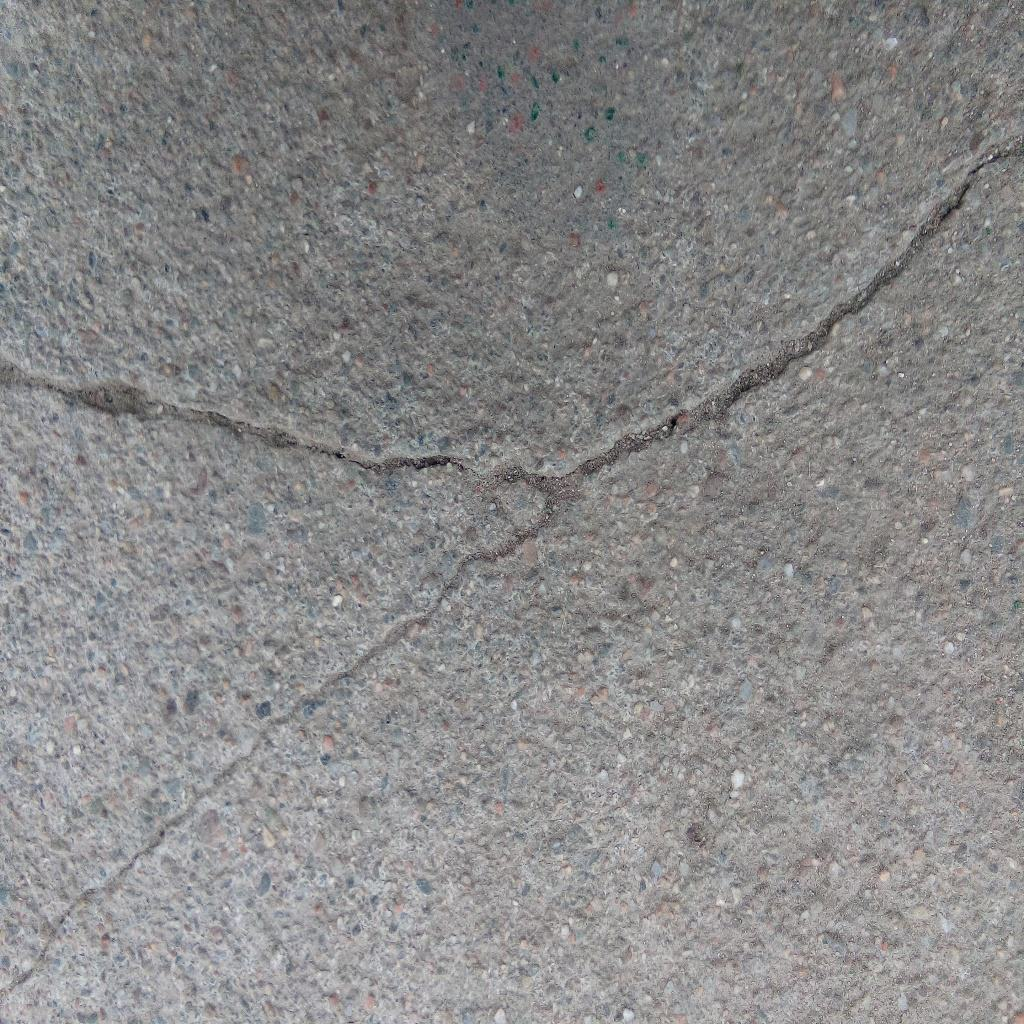Crack: (1, 486, 559, 996), (549, 140, 1024, 486), (1, 365, 548, 486)
